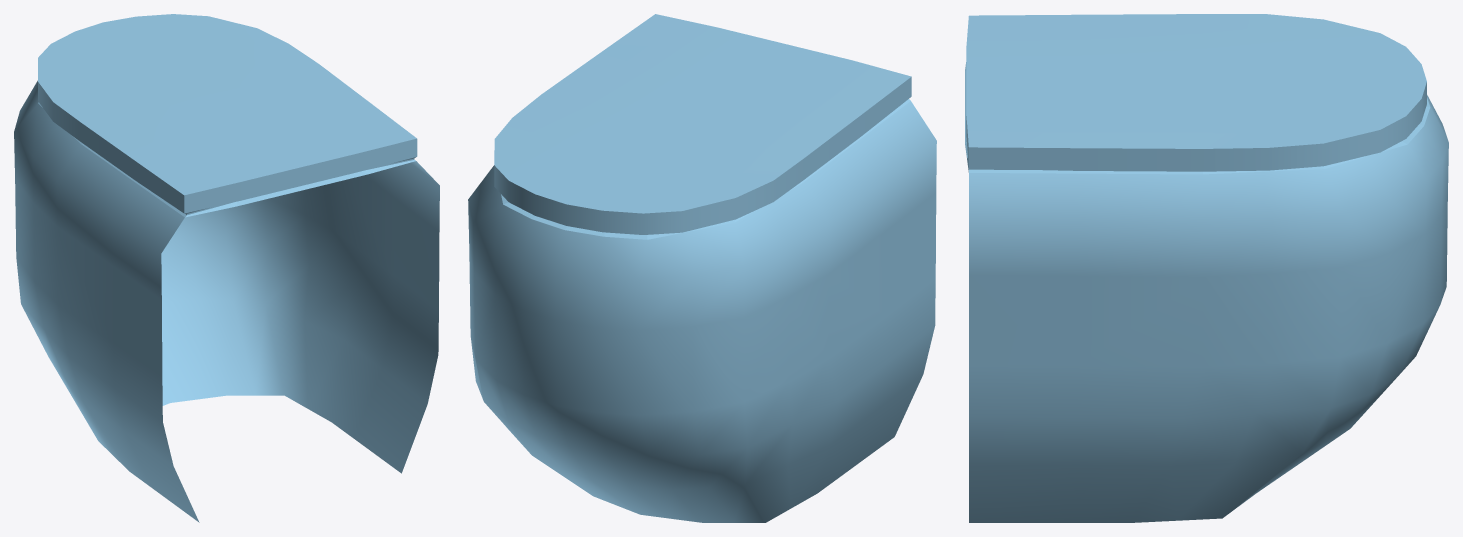
Rendered from Prop_wcS1.FBX.
3 views of the same model, side by side, from view 1: azimuth 30°, elevation 25°; view 2: azimuth 150°, elevation 25°; view 3: azimuth 270°, elevation 25° (orthographic). The views are drawn at different scales.
Parts seen in each view (by area): view 1: Prop_wcS1; view 2: Prop_wcS1; view 3: Prop_wcS1.
Part boxes in pixels (box(x1,y1,x2,y2)): Prop_wcS1: box(14, 14, 439, 522); Prop_wcS1: box(468, 14, 936, 522); Prop_wcS1: box(965, 14, 1448, 522).
Size of the model in its own units: 21.15 by 23.52 by 26.8.
